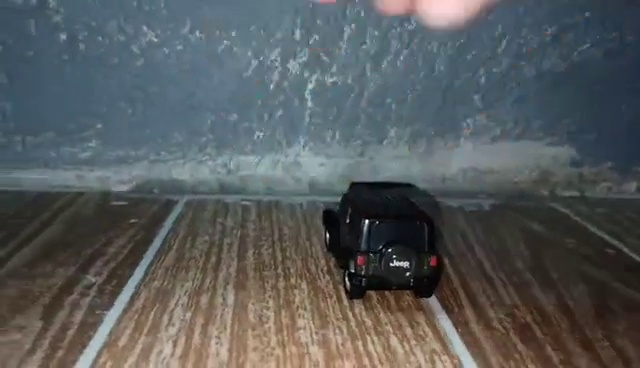car: (321, 183, 445, 305)
